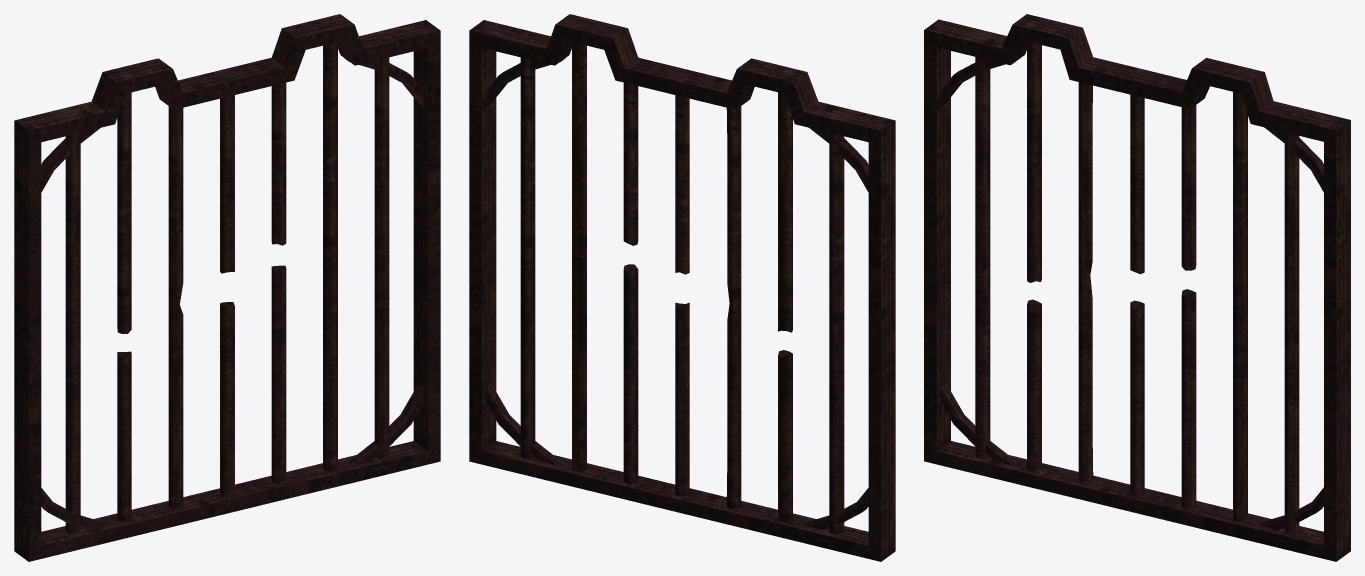
Rendered from sewer_grate_worn.dae.
3 renders of one model, left to right at view 1: azimuth 30°, elevation 25°; view 2: azimuth 150°, elevation 25°; view 3: azimuth 330°, elevation 25°, orthographic.
Parts seen in each view (by area): view 1: polySurface19; view 2: polySurface19; view 3: polySurface19.
Boxes of the visible parts, <box> form: polySurface19: <box>14,14,440,561</box>; polySurface19: <box>469,14,895,561</box>; polySurface19: <box>924,14,1350,561</box>.
Bounding box in the file's own units: 4 × 4.25 × 0.2437.
